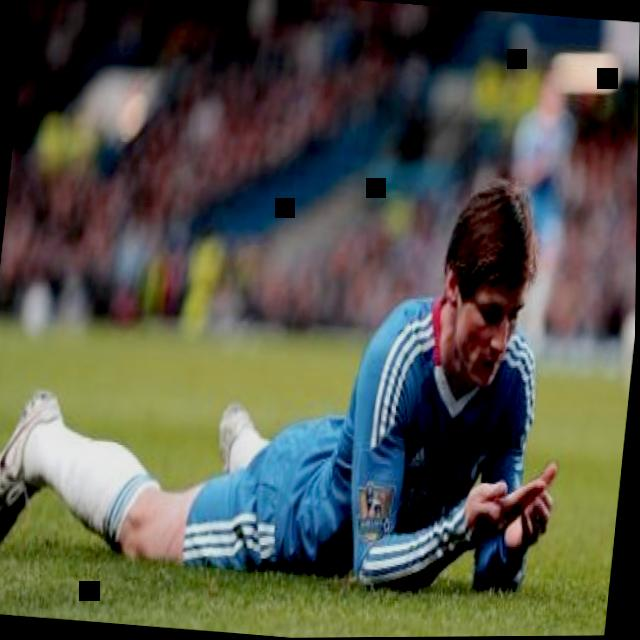Fall-Detected: (0, 132, 587, 607)
